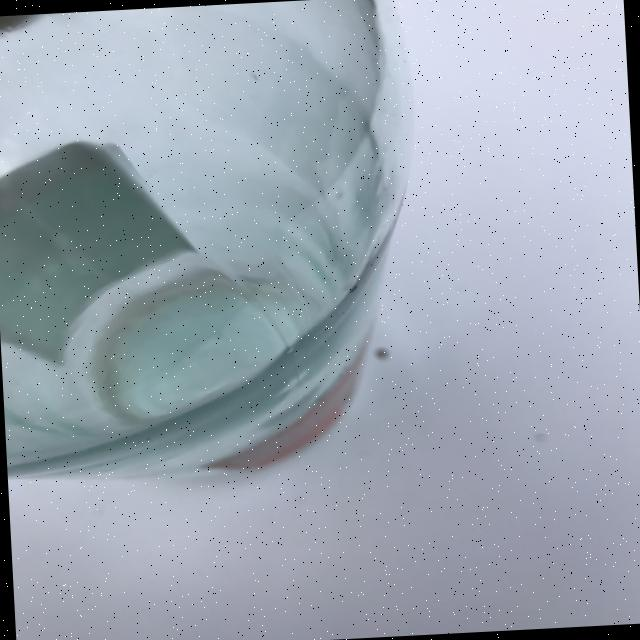glass: (0, 0, 433, 486)
